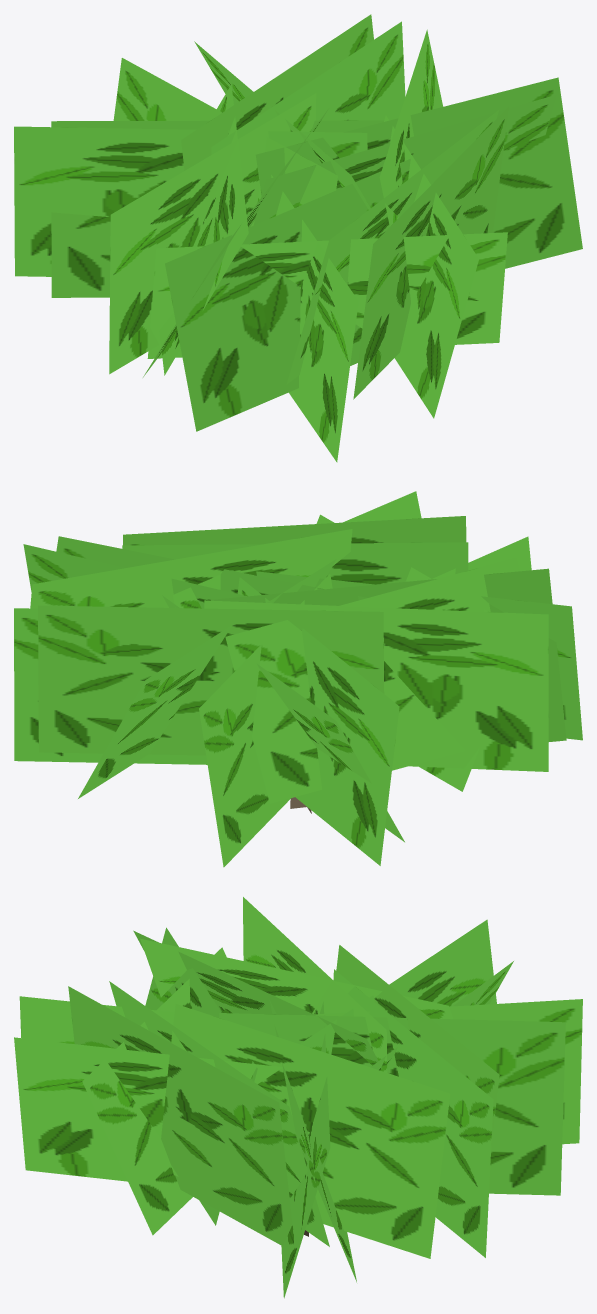
Rendered from arbusto.glb.
3 views of the same model, one above another, from view 1: azimuth 30°, elevation 25°; view 2: azimuth 150°, elevation 25°; view 3: azimuth 270°, elevation 25° (orthographic). The views are drawn at different scales.
Visible parts, largest first — view 1: arbusto2; view 2: arbusto2; view 3: arbusto2.
Boxes of the visible parts, left/top/right/bottom form: arbusto2: left=14, top=14, right=582, bottom=462; arbusto2: left=14, top=491, right=582, bottom=867; arbusto2: left=14, top=897, right=582, bottom=1298.
Size of the model in its own units: 2.26 by 1.07 by 2.29.
2 materials, 1 textured.
